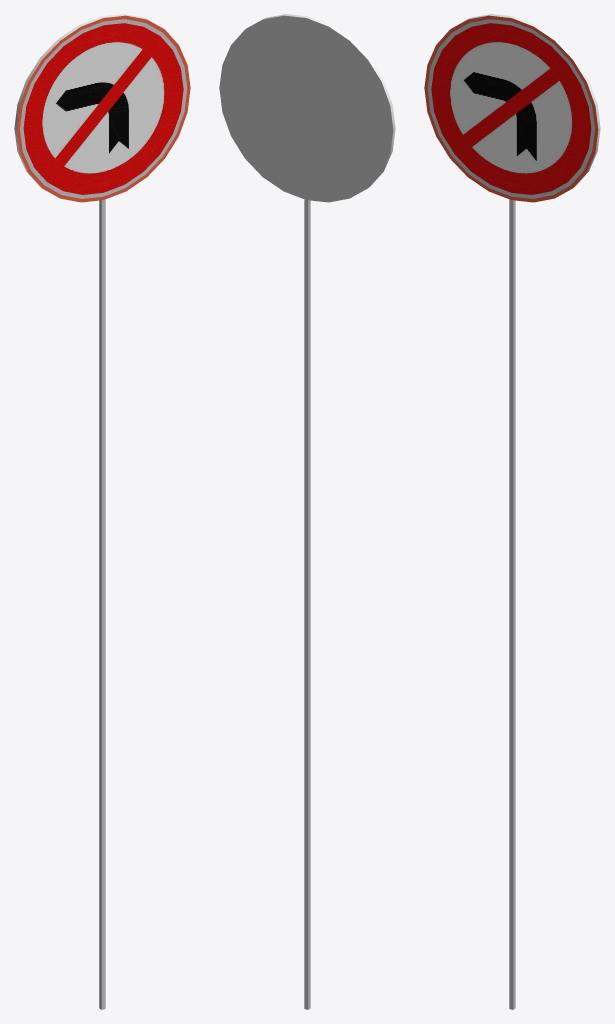
Rendered from trafik_levha_sola_donulmez.obj.
The picture shows the model from 3 angles, left to right: view 1: azimuth 30°, elevation 25°; view 2: azimuth 150°, elevation 25°; view 3: azimuth 330°, elevation 25°; orthographic projection.
Parts seen in each view (by area): view 1: Mesh2 Group3 Group1 Model, Mesh1 Group2 Group1 Model; view 2: Mesh2 Group3 Group1 Model, Mesh1 Group2 Group1 Model; view 3: Mesh2 Group3 Group1 Model, Mesh1 Group2 Group1 Model.
Part boxes in pixels (x1=…): Mesh2 Group3 Group1 Model: x1=14, y1=14, x2=190, y2=202; Mesh1 Group2 Group1 Model: x1=99, y1=199, x2=105, y2=1009; Mesh2 Group3 Group1 Model: x1=219, y1=14, x2=395, y2=202; Mesh1 Group2 Group1 Model: x1=304, y1=199, x2=310, y2=1009; Mesh2 Group3 Group1 Model: x1=424, y1=14, x2=600, y2=202; Mesh1 Group2 Group1 Model: x1=509, y1=199, x2=515, y2=1009.
Size of the model in its own units: 450 by 2450 by 10.
4 materials, 1 textured.
